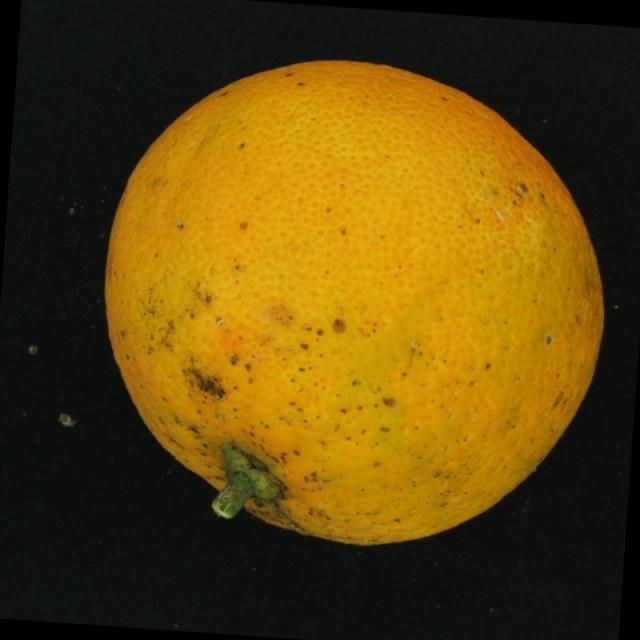grenning: (78, 44, 617, 592)
